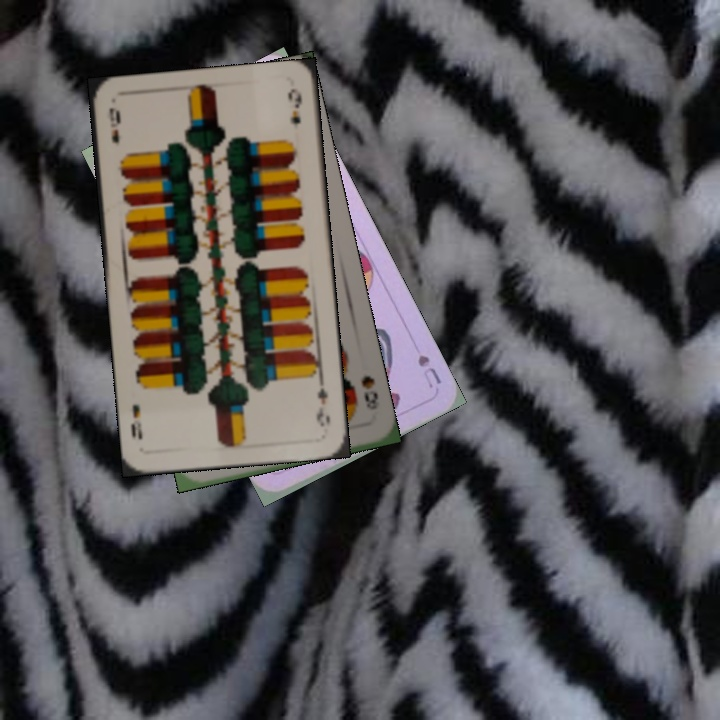E9: (312, 373, 333, 429), (105, 104, 123, 147)
S8: (357, 371, 382, 413)
SU: (413, 350, 444, 391)
